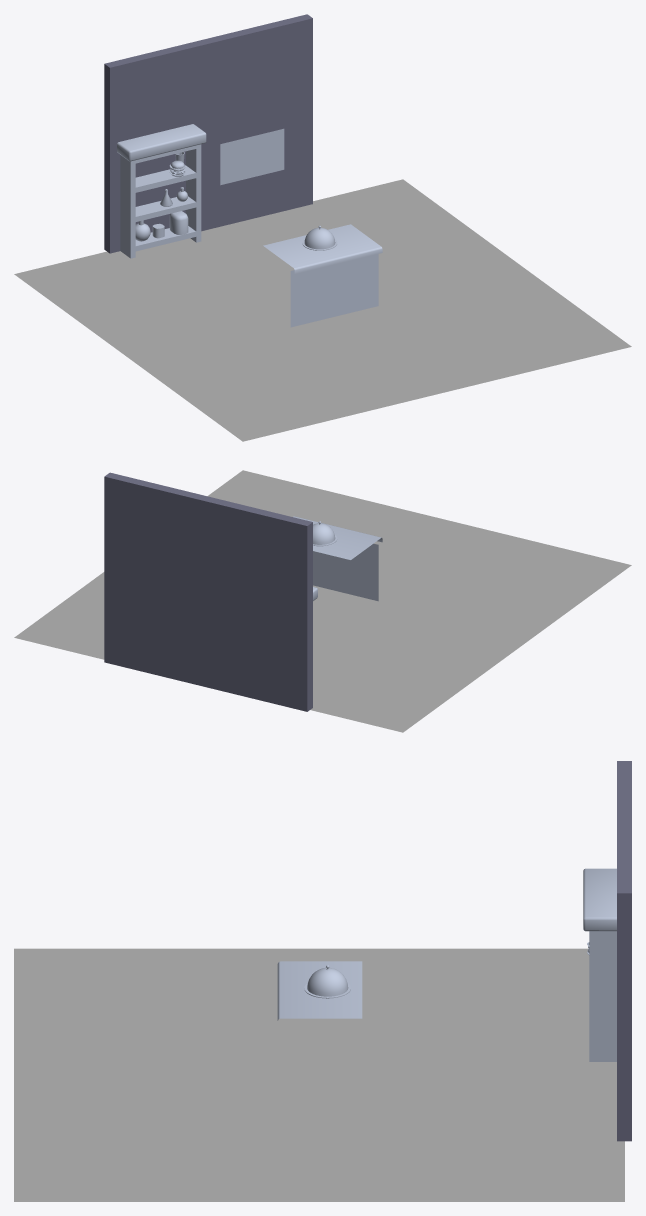
Rendered from lab_scene.fbx.
3 views of the same model, one above another, from view 1: azimuth 30°, elevation 25°; view 2: azimuth 150°, elevation 25°; view 3: azimuth 270°, elevation 25° (orthographic). The views are drawn at different scales.
Parts seen in each view (by area): view 1: floor, wall, cupboard_mesh, Cube.001, Cube, poster; view 2: floor, wall, Cube.001, Cube, opener; view 3: floor, cupboard_mesh, wall, Cube, opener.
Boxes of the visible parts, <box> form: floor: <box>14,179,631,441</box>; wall: <box>104,14,312,253</box>; cupboard_mesh: <box>117,124,206,258</box>; Cube.001: <box>290,254,378,327</box>; Cube: <box>263,224,382,273</box>; poster: <box>220,128,284,185</box>; floor: <box>14,470,631,732</box>; wall: <box>104,472,312,711</box>; Cube.001: <box>313,543,378,601</box>; Cube: <box>293,516,382,559</box>; opener: <box>313,521,335,544</box>; floor: <box>14,948,624,1201</box>; cupboard_mesh: <box>583,868,616,1061</box>; wall: <box>617,761,631,1141</box>; Cube: <box>277,961,362,1020</box>; opener: <box>307,965,348,996</box>.
Bounding box in the file's own units: 14.4 × 6.57 × 14.84.
